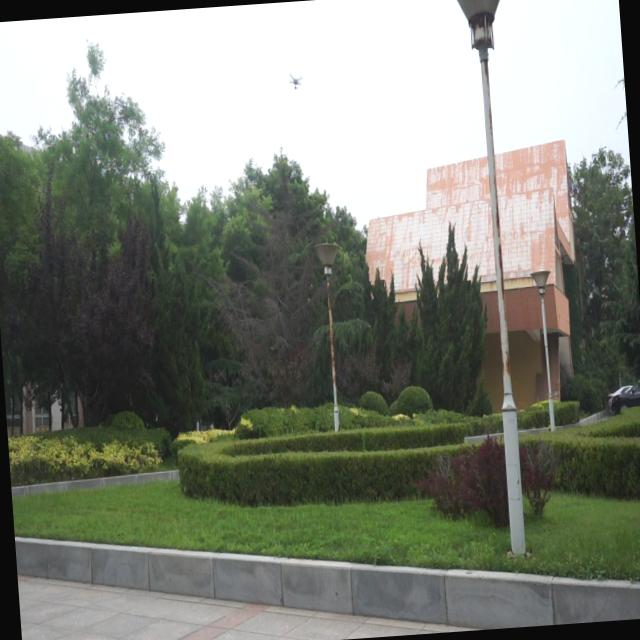drone: (286, 68, 306, 96)
